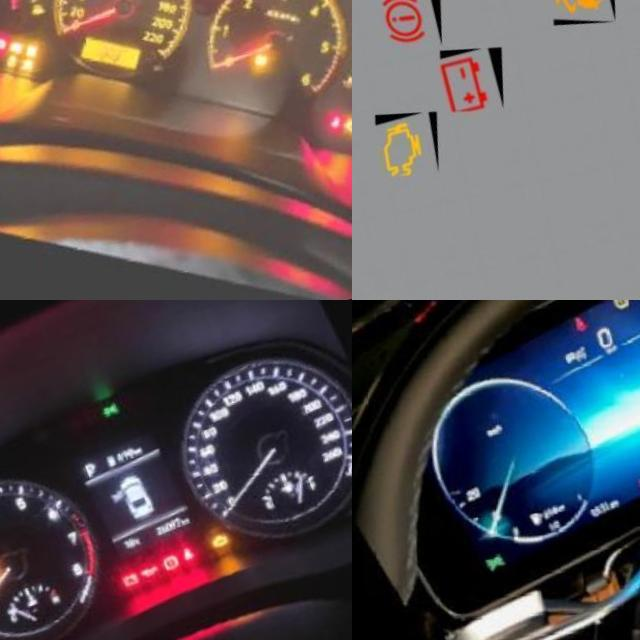Engine cooling system: (325, 89, 344, 107)
Low fuel level: (501, 516, 520, 534), (19, 8, 34, 24)
